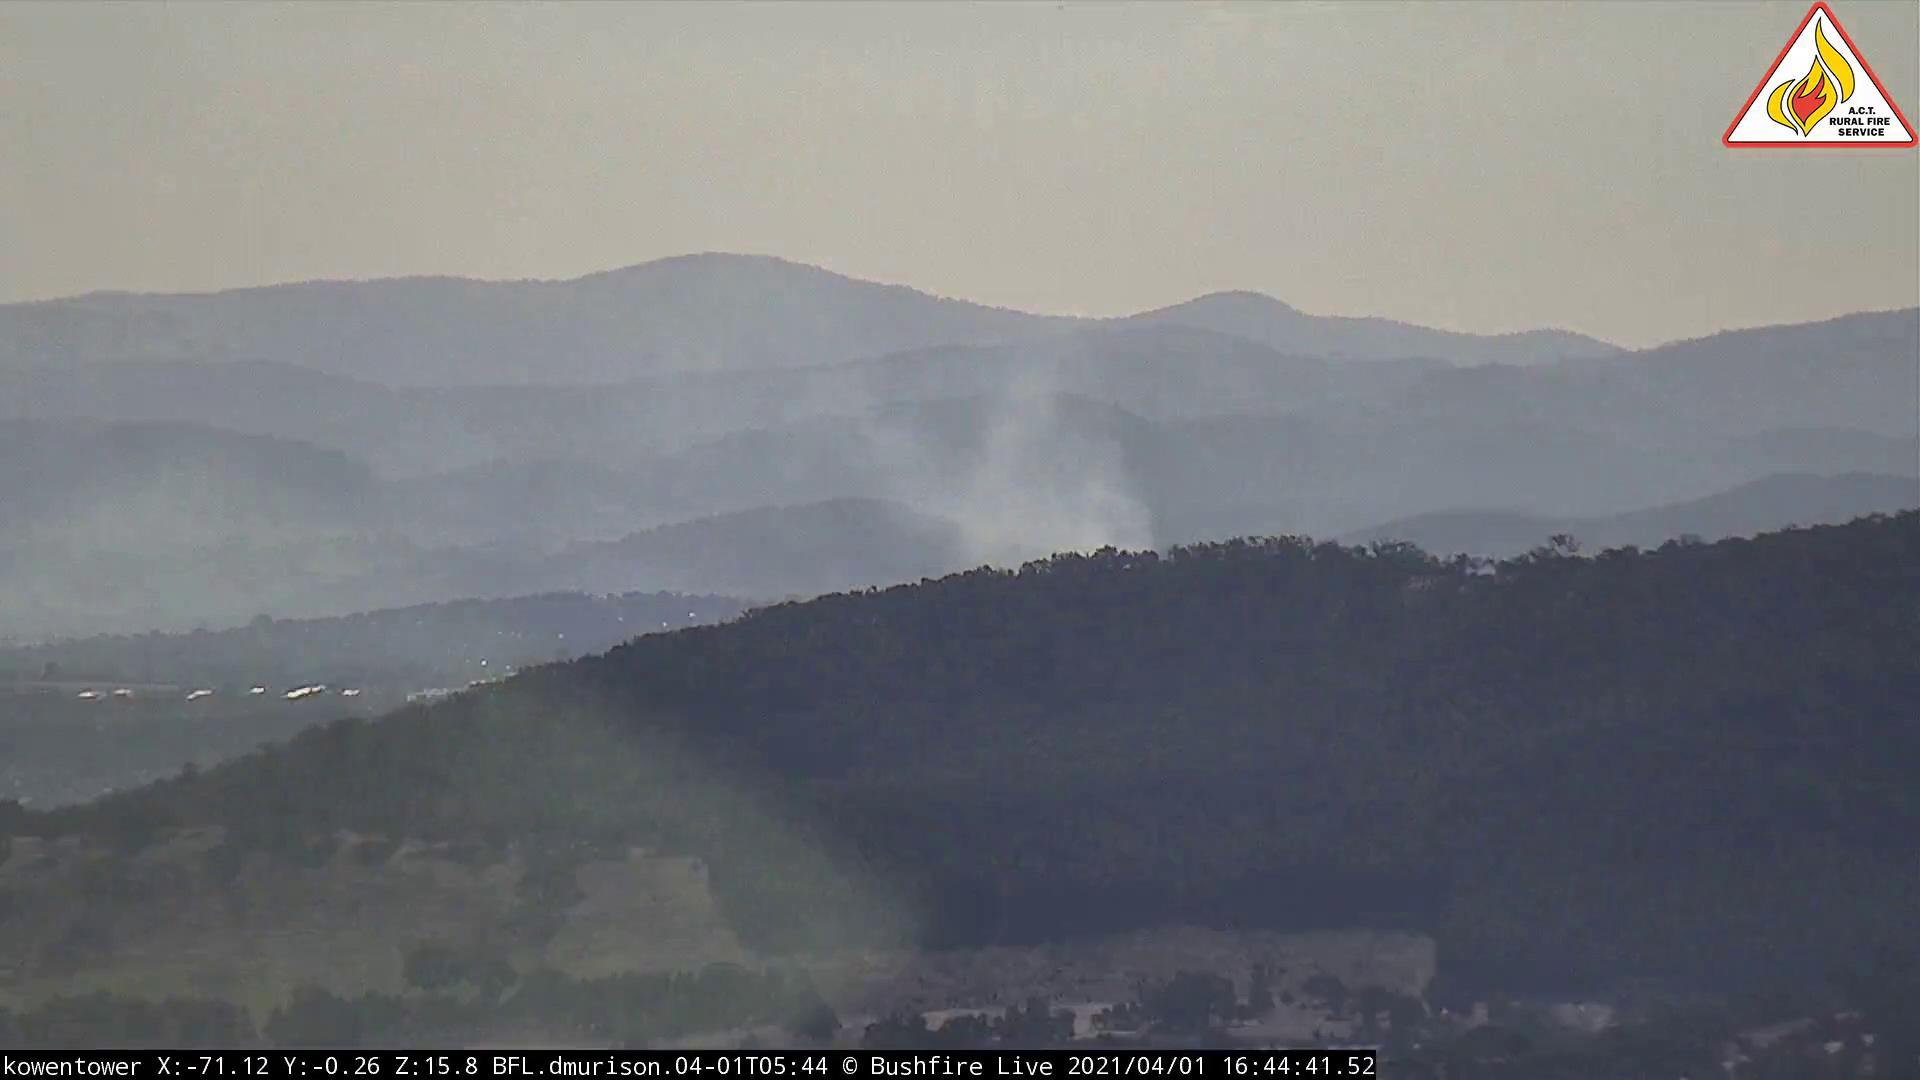Smoke: (848, 320, 1184, 583)
